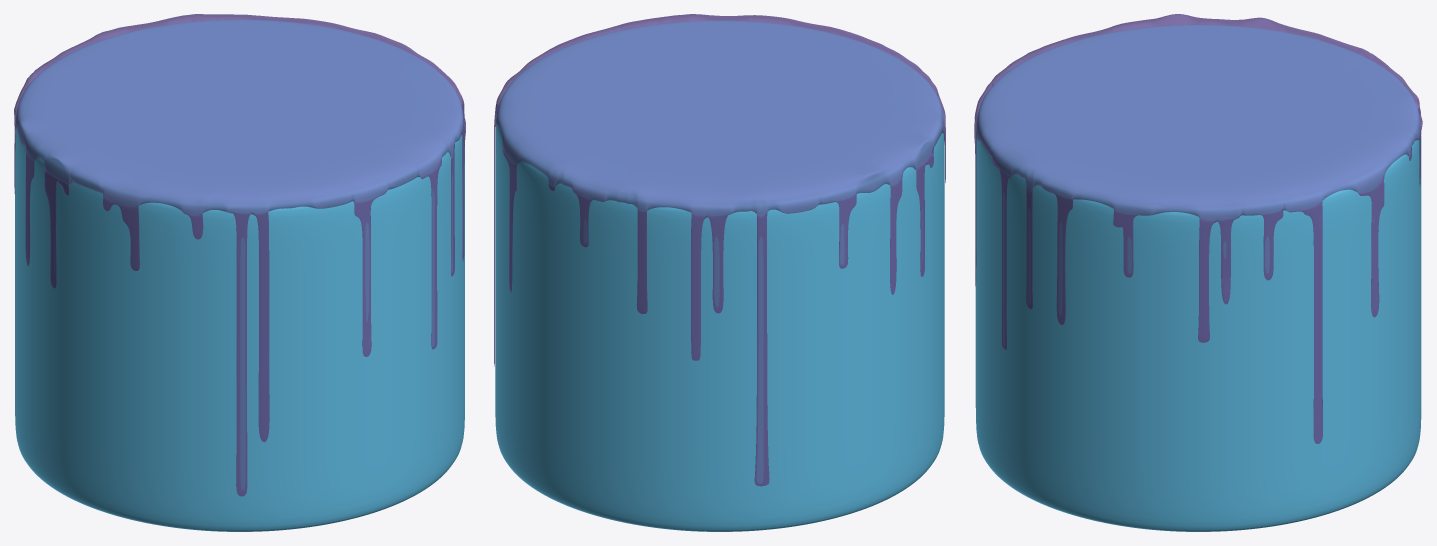
The model's file is Cake_Layer_1_LightBlue_PurpleDrip.glb.
3 renders of one model, left to right at view 1: azimuth 30°, elevation 25°; view 2: azimuth 150°, elevation 25°; view 3: azimuth 270°, elevation 25°, orthographic.
Visible parts, largest first — view 1: Circle, Circle.001; view 2: Circle, Circle.001; view 3: Circle, Circle.001.
Part boxes in pixels (box(x1,y1,x2,y2)): Circle: box(15, 20, 464, 531); Circle.001: box(14, 14, 465, 496); Circle: box(495, 20, 944, 531); Circle.001: box(494, 14, 945, 486); Circle: box(975, 25, 1421, 531); Circle.001: box(974, 14, 1422, 443).
Bounding box in the file's own units: 0.1501 × 0.1237 × 0.1499.
